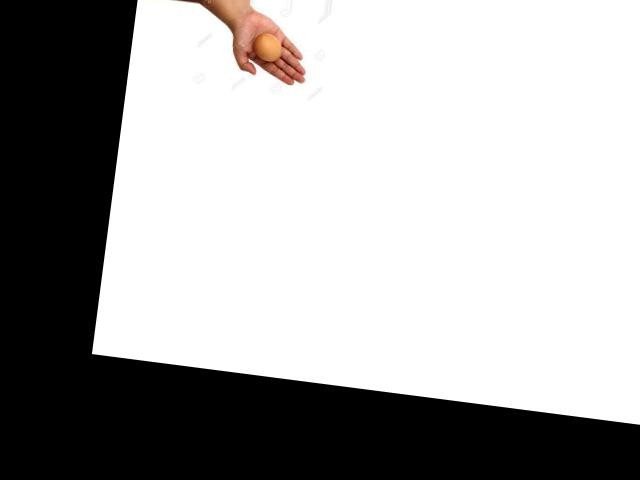egg: (251, 31, 282, 62)
